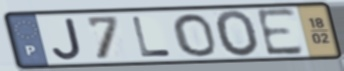7: (85, 14, 123, 61)
E: (254, 6, 307, 59)
J: (49, 17, 84, 62)
L: (130, 15, 174, 58)
O: (213, 9, 262, 59), (170, 12, 220, 58)
